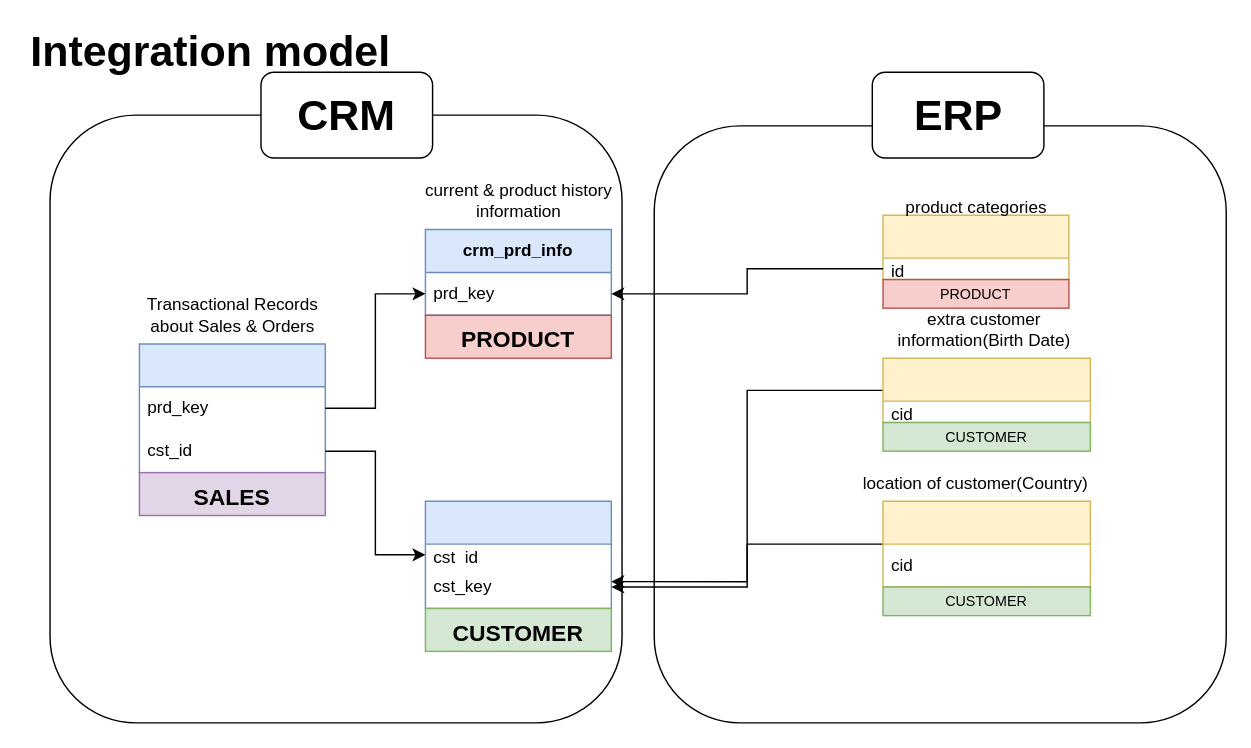
The diagram is 1251 pixels wide and 748 high, and some of its shapes have lost their labels. The shapes that lost their labels are listed below. From the top down, each one's box as (x1, y1, x2, y2) in pixels, then its label:
(882, 214, 1069, 280): erp_px_cat_g1v2
(138, 342, 325, 473): crm_sales_details
(882, 357, 1090, 423): erp_cust_az12
(424, 500, 611, 608): crm_cust_info
(882, 500, 1090, 587): erp_loc_a101
